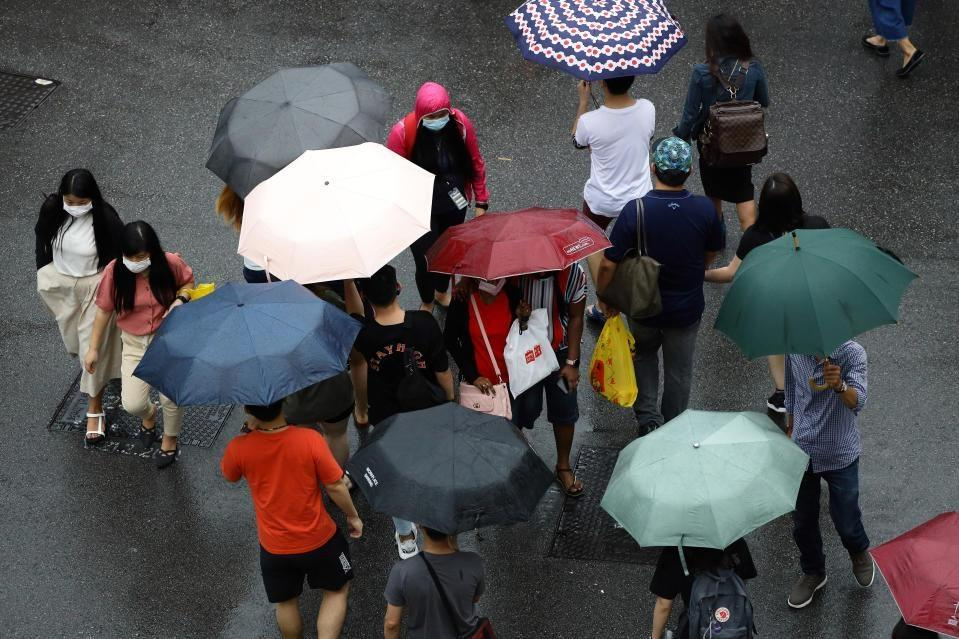Umbrella: (131, 272, 360, 416), (711, 217, 922, 370), (601, 405, 813, 555), (237, 138, 434, 293), (349, 402, 560, 541), (204, 58, 410, 199), (421, 172, 625, 290), (491, 3, 698, 91), (866, 503, 959, 637)
